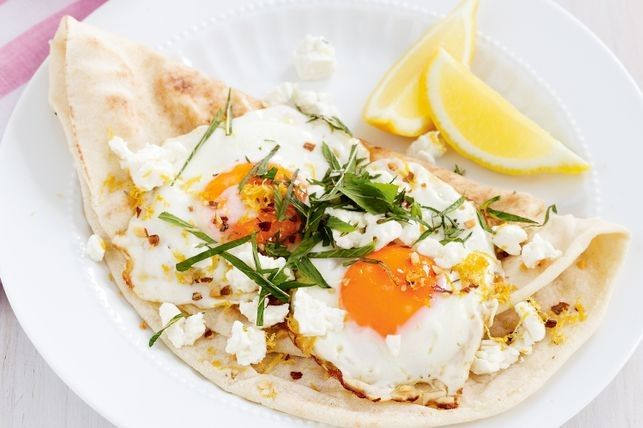fried egg: (160, 139, 523, 358)
